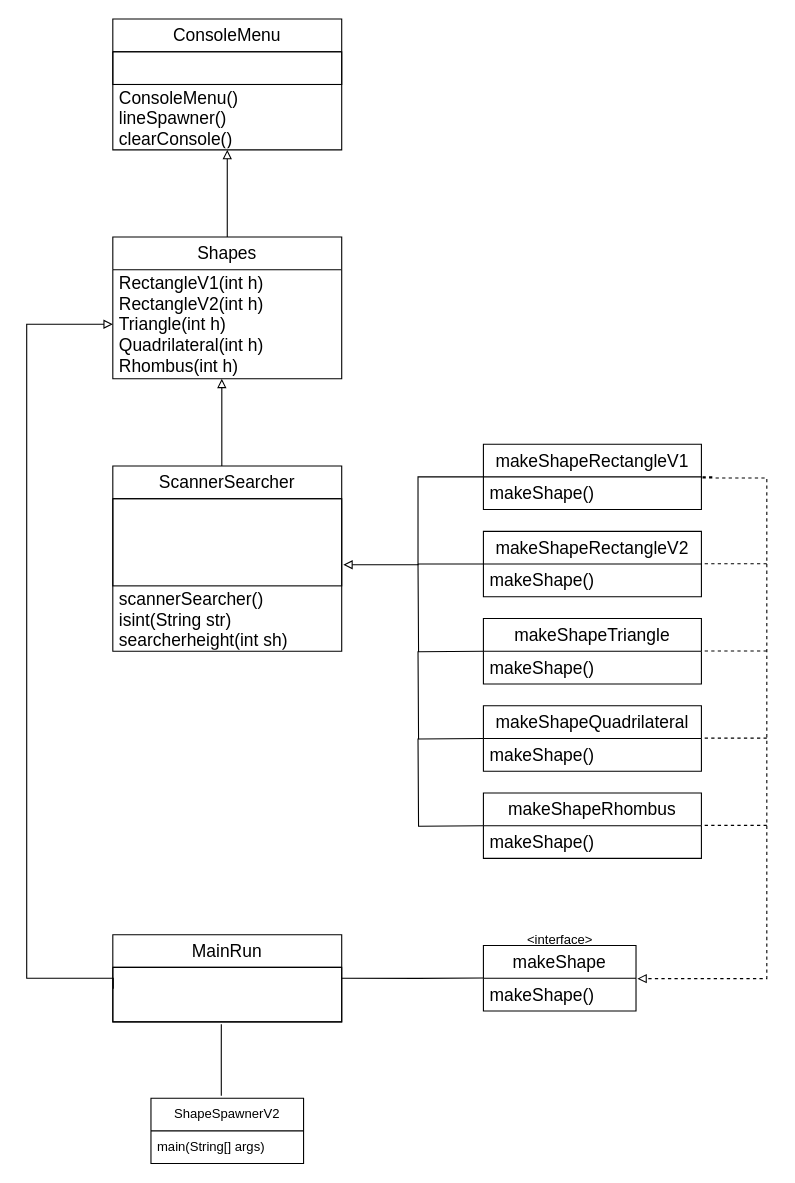
Image size: 795x1183. Some labels were removed from this diagram. Here are the shapes that lost their labels. From the top down, the centre of each, then its label:
(x=227, y=67): String SH
(x=227, y=542): boolean outStringSearcher boolean outintSearcher int intSH int OKSH
(x=227, y=994): String mselecter boolean inmenu
